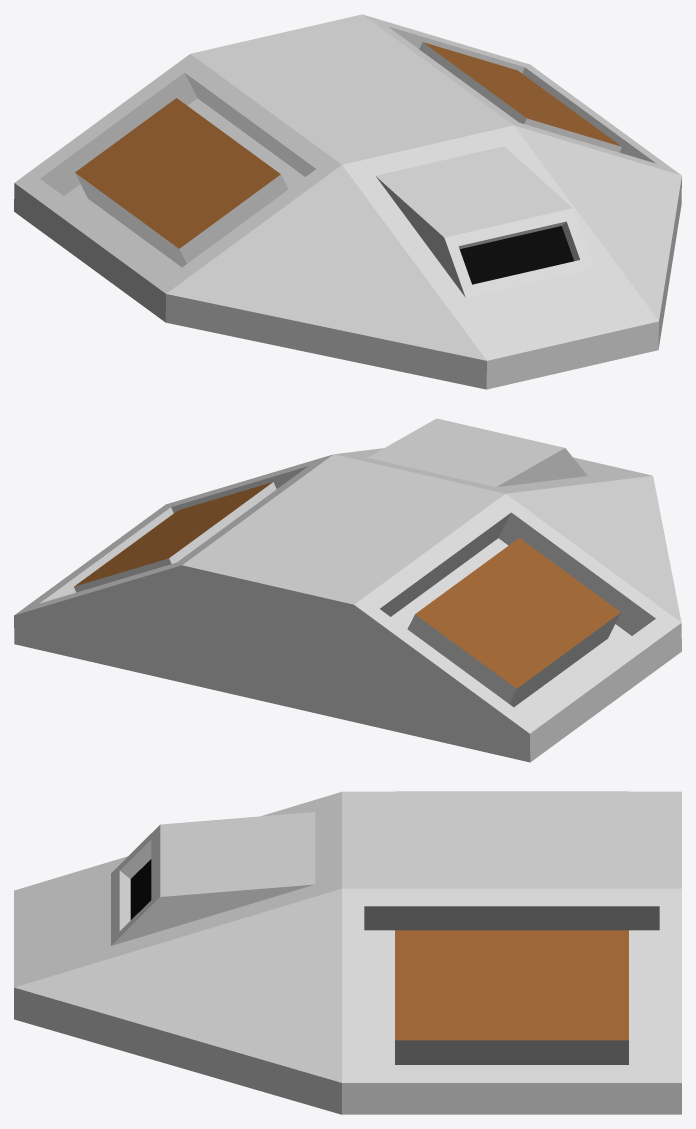
File: spaceship4.glb
3 renders of one model, top to bottom at view 1: azimuth 30°, elevation 25°; view 2: azimuth 150°, elevation 25°; view 3: azimuth 270°, elevation 25°, orthographic. The views are drawn at different scales.
Parts seen in each view (by area): view 1: Plane; view 2: Plane; view 3: Plane.
Part boxes in pixels (x1,y1,x2,y2): Plane: [14, 14, 681, 389]; Plane: [14, 418, 681, 762]; Plane: [14, 791, 681, 1114].
Size of the model in its own units: 2 by 0.4533 by 2.
